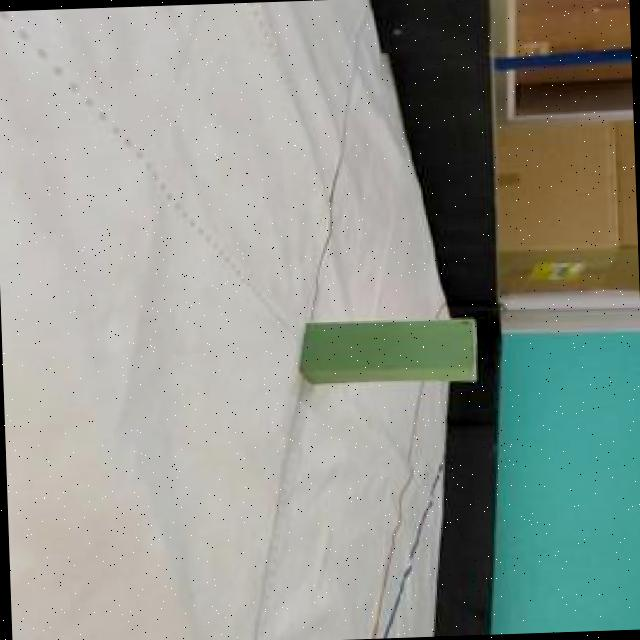greenbox: (296, 316, 478, 384)
